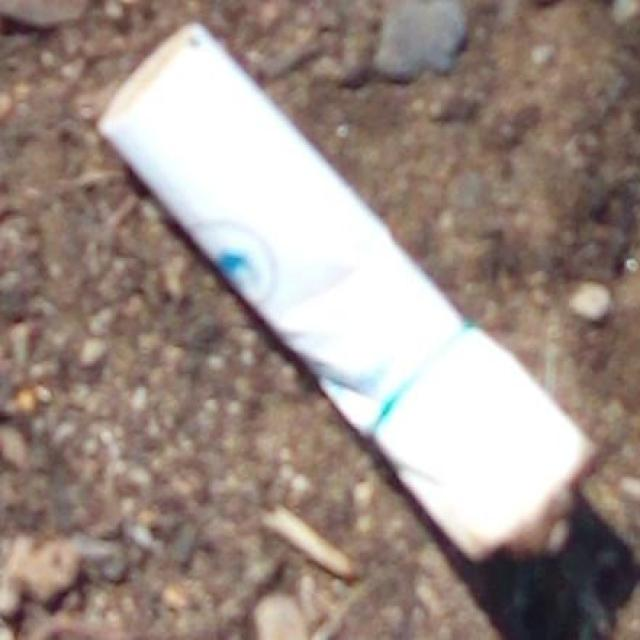litter: (96, 29, 588, 563)
